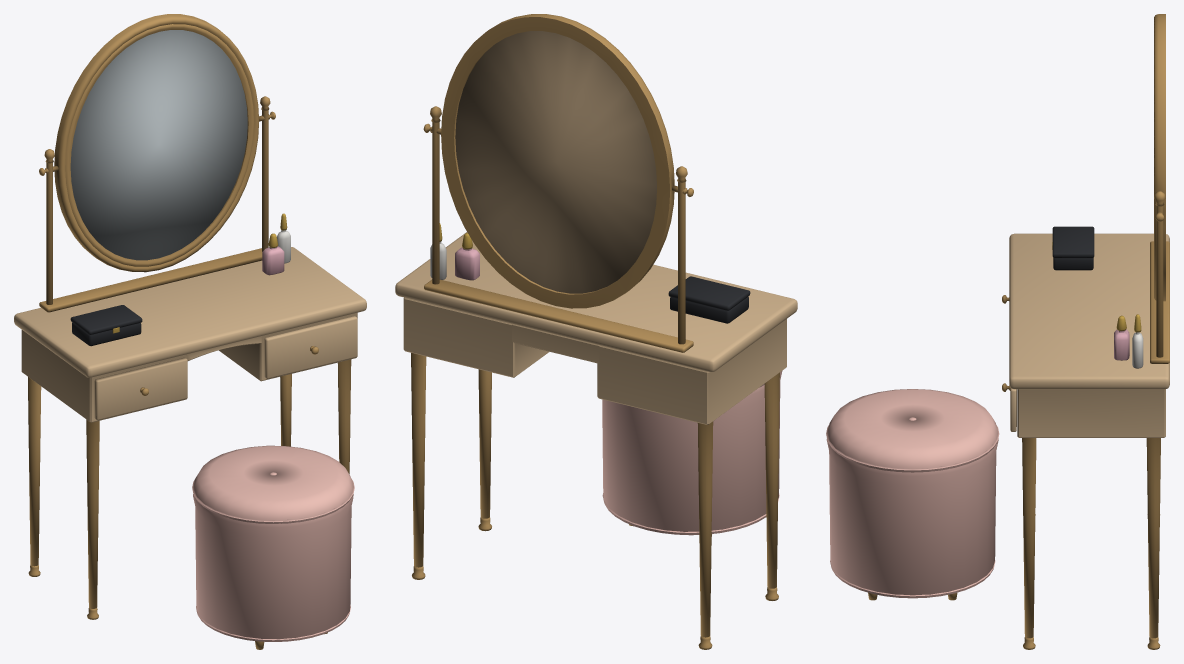
File: dressingTable.glb
3 renders of one model, left to right at view 1: azimuth 30°, elevation 25°; view 2: azimuth 150°, elevation 25°; view 3: azimuth 270°, elevation 25°, orthographic. The views are drawn at different scales.
Visible parts, largest first — view 1: body, drawer; view 2: body; view 3: body.
Part boxes in pixels (x1=…): body: x1=14, y1=14, x2=366, y2=649; drawer: x1=264, y1=316, x2=357, y2=378; body: x1=395, y1=14, x2=797, y2=649; body: x1=826, y1=14, x2=1169, y2=649.
Bounding box in the file's own units: 0.86 × 1.53 × 0.8557.
